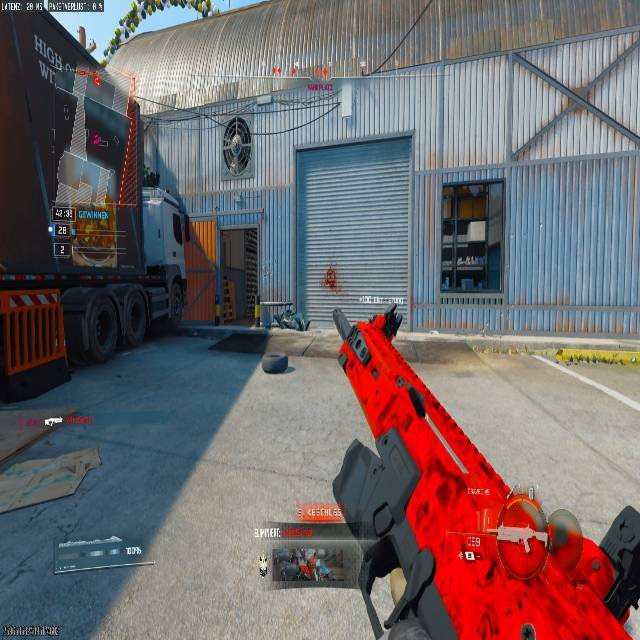head: (285, 302, 294, 313)
player: (223, 116, 252, 175)
